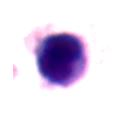lymphocyte: (28, 29, 93, 90)
